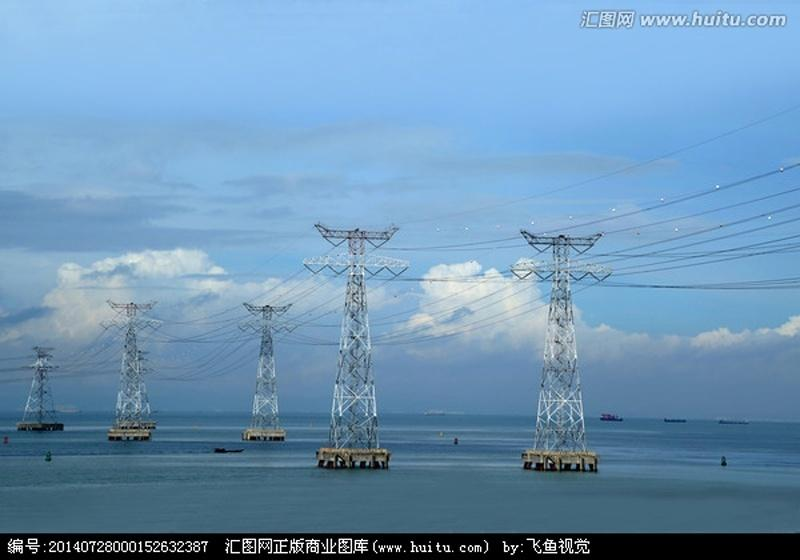power_tower: (300, 217, 414, 454), (500, 225, 603, 457), (228, 295, 298, 433), (94, 295, 160, 431), (16, 341, 59, 421)
